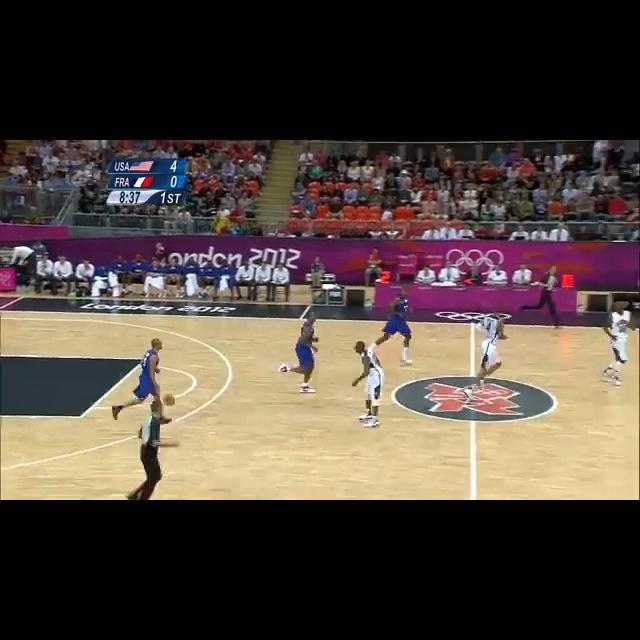basketball: (162, 393, 176, 407)
person: (190, 140, 272, 219)
